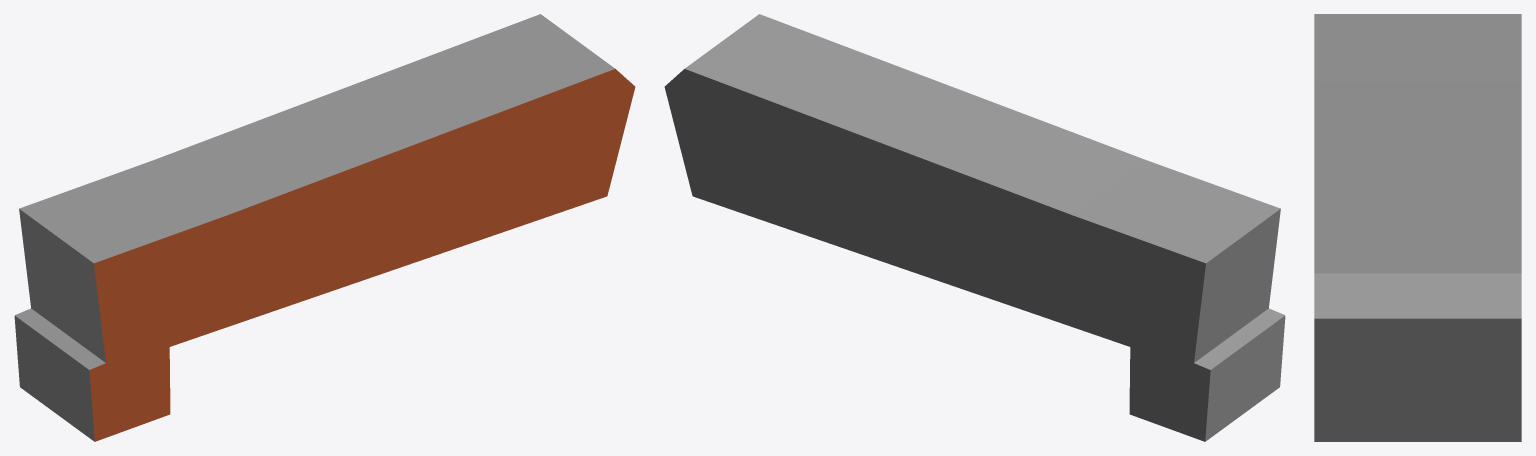
The model's file is construction_5793_assumed_A_Casa_h6m.obj.
3 renders of one model, left to right at view 1: azimuth 30°, elevation 25°; view 2: azimuth 150°, elevation 25°; view 3: azimuth 270°, elevation 25°, orthographic. The views are drawn at different scales.
Parts seen in each view (by area): view 1: construction_5793_assumed_A_Casa; view 2: construction_5793_assumed_A_Casa; view 3: construction_5793_assumed_A_Casa.
Part boxes in pixels (box(x1,y1,x2,y2)): construction_5793_assumed_A_Casa: box(14, 14, 635, 441); construction_5793_assumed_A_Casa: box(664, 14, 1285, 441); construction_5793_assumed_A_Casa: box(1314, 14, 1521, 441).
Size of the model in its own units: 25.27 by 10.89 by 6.
